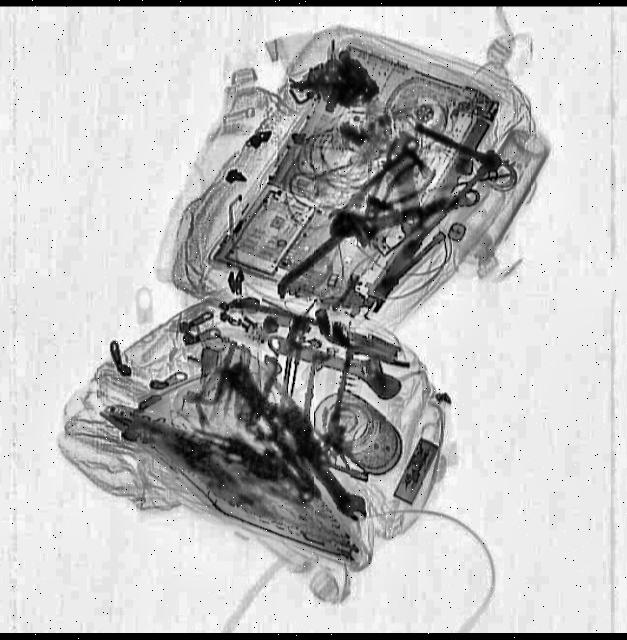Pliers: (364, 148, 438, 225)
Wrench: (325, 174, 482, 253), (262, 322, 406, 404), (380, 128, 431, 236), (304, 453, 370, 528)
